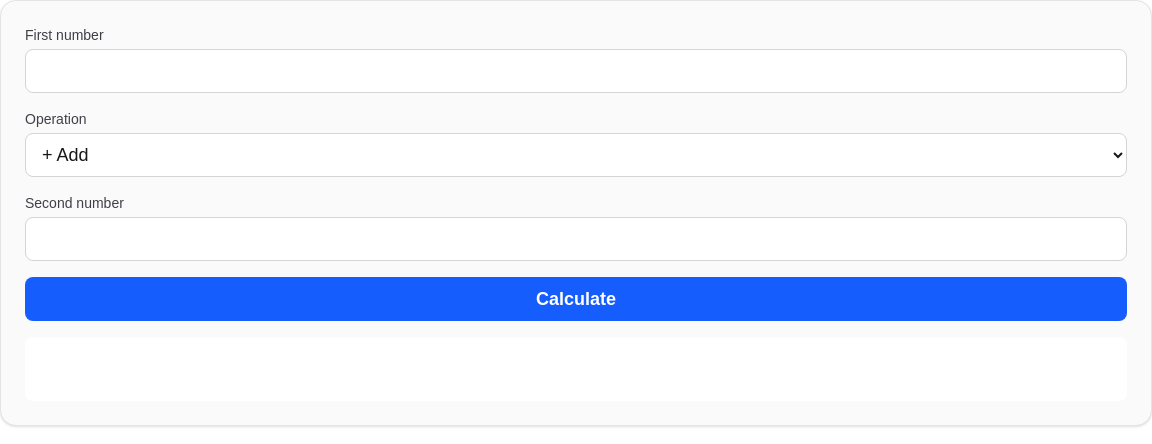
Test case: Calculator error handling › 10 ÷ 0 shows 'You can't divide by zero.' and keeps the inputs
Type "10" into the field labelled "First number" at (576, 71), box left=25, top=49, right=1127, bottom=93
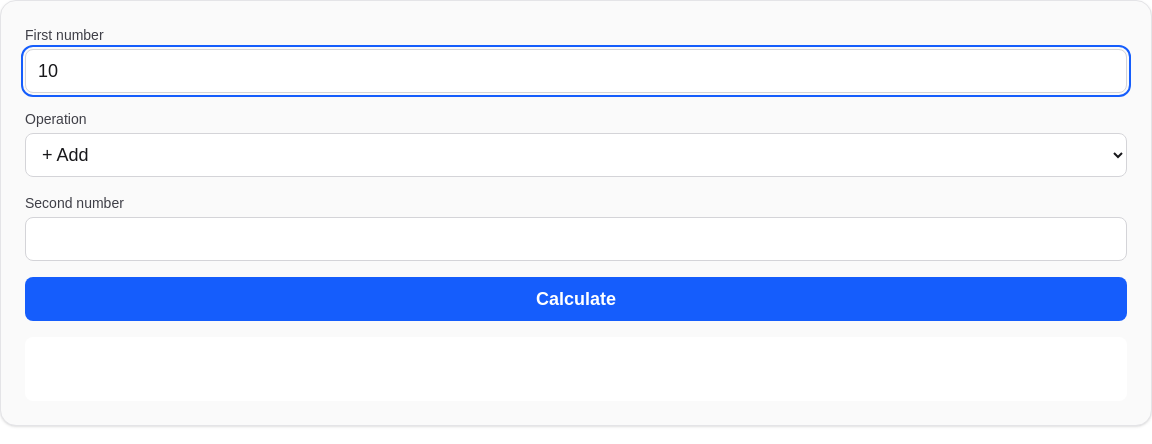
Select "÷ Divide" in the dropdown labelled "Operation" at (576, 155), box left=25, top=133, right=1127, bottom=177
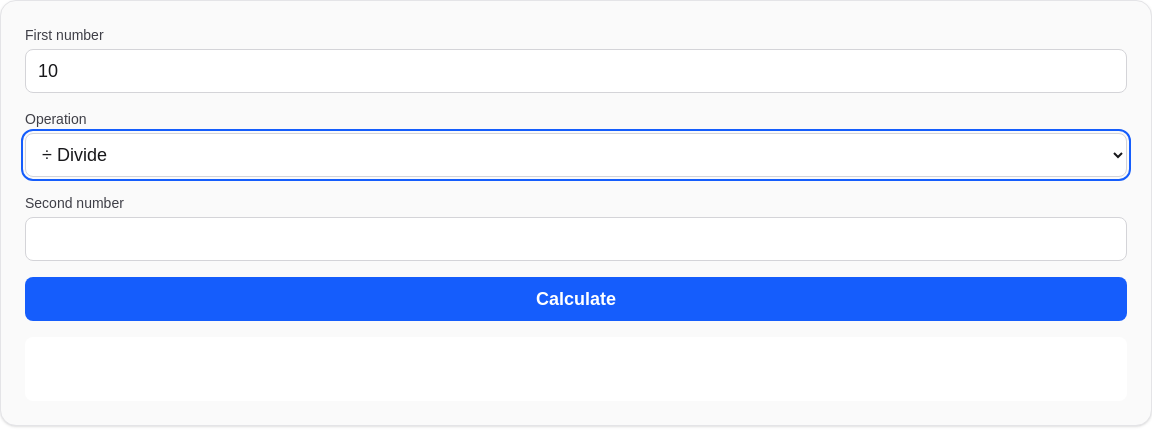
Type "0" into the field labelled "Second number" at (576, 239), box left=25, top=217, right=1127, bottom=261
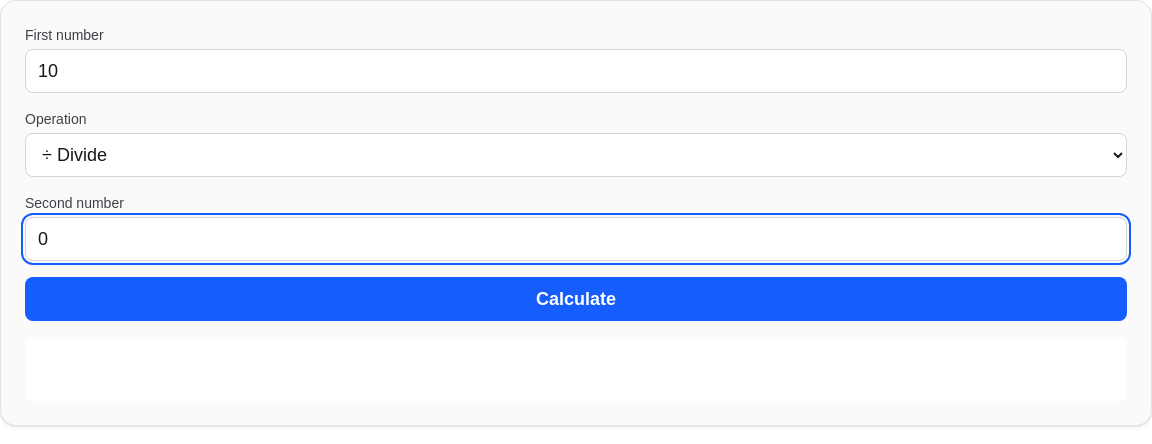
Click the button "Calculate" at (576, 299), box left=25, top=277, right=1127, bottom=321
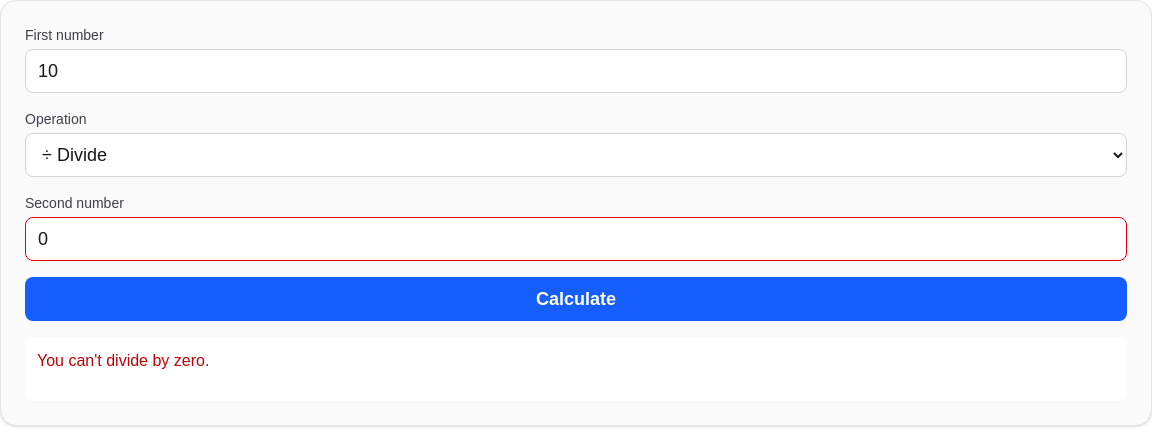
Check: the message does not show "raw API message", box left=25, top=337, right=1127, bottom=401
Check: the message reads "You can't divide by zero.", box left=37, top=352, right=209, bottom=369
